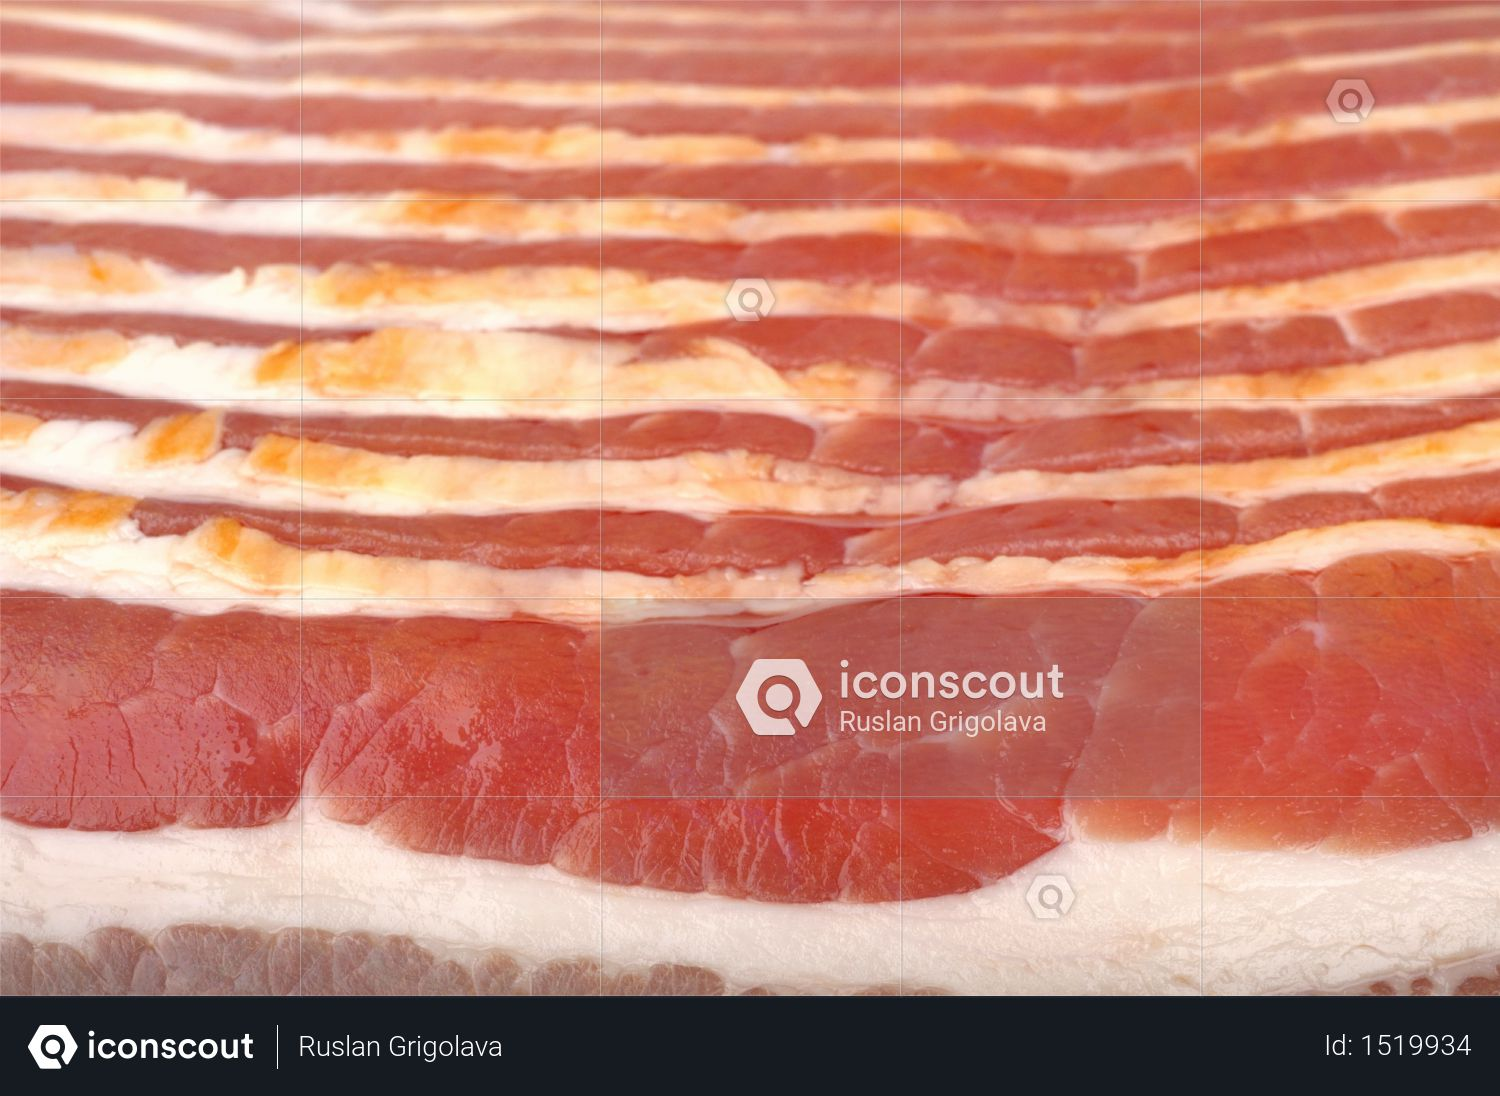bacon: (203, 200, 1333, 724)
